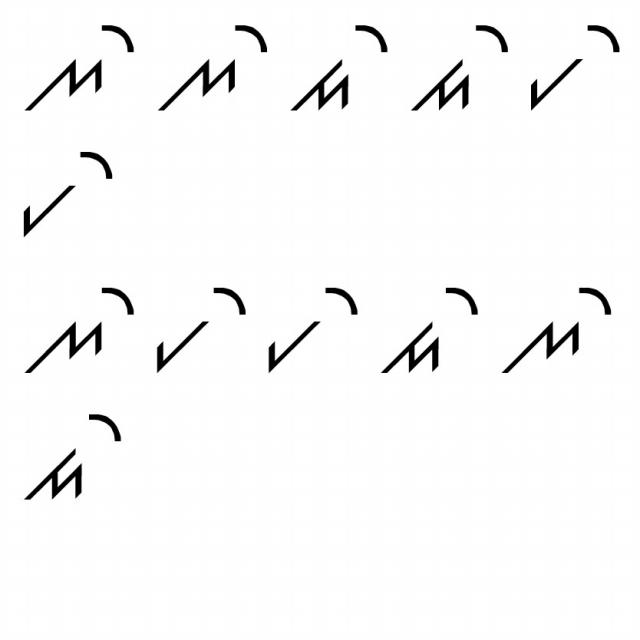day: (381, 277, 484, 383), (20, 409, 125, 505), (289, 22, 393, 118), (412, 20, 510, 120)
nay: (498, 275, 617, 379), (22, 20, 138, 121), (152, 18, 272, 114), (20, 280, 137, 374)
pay: (261, 274, 362, 378), (148, 278, 251, 377), (15, 141, 120, 237), (523, 22, 623, 118)
